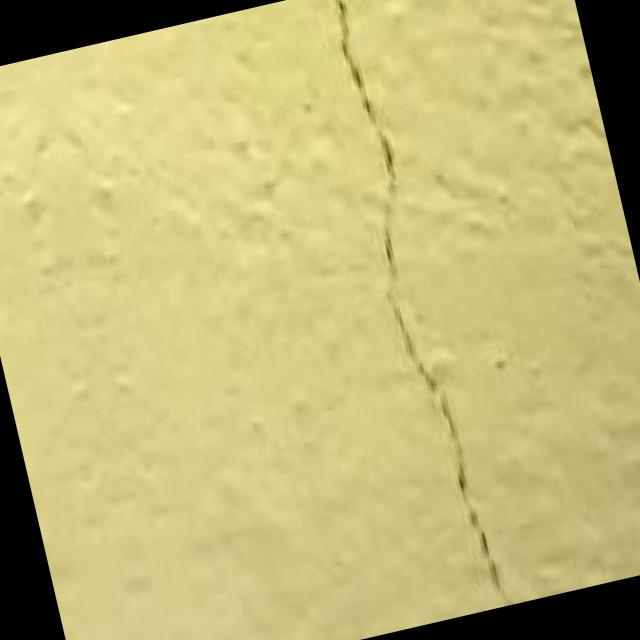crack: (260, 0, 575, 626)
